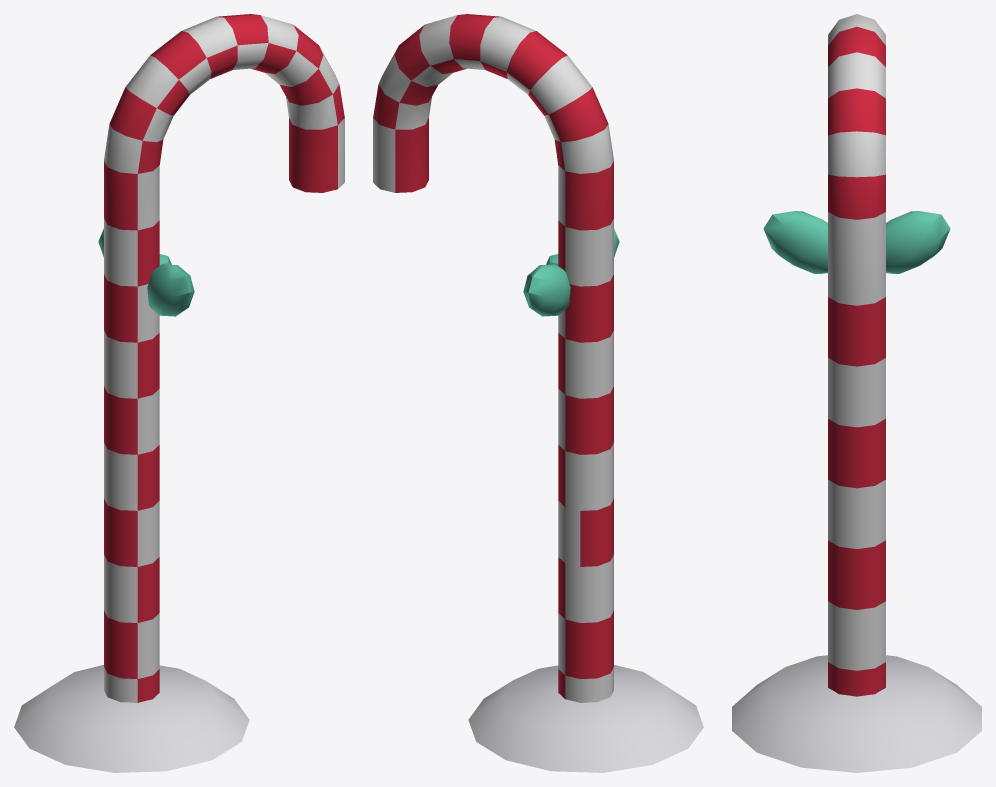
Rendered from candy_cane.glb.
3 renders of one model, left to right at view 1: azimuth 30°, elevation 25°; view 2: azimuth 150°, elevation 25°; view 3: azimuth 270°, elevation 25°, orthographic. The views are drawn at different scales.
Visible parts, largest first — view 1: candy_cane; view 2: candy_cane; view 3: candy_cane.
Part boxes in pixels (left/top/right/bottom): candy_cane: left=14, top=14, right=344, bottom=772; candy_cane: left=373, top=14, right=703, bottom=772; candy_cane: left=732, top=14, right=981, bottom=772.
Size of the model in its own units: 1.28 by 2.68 by 0.8189.
